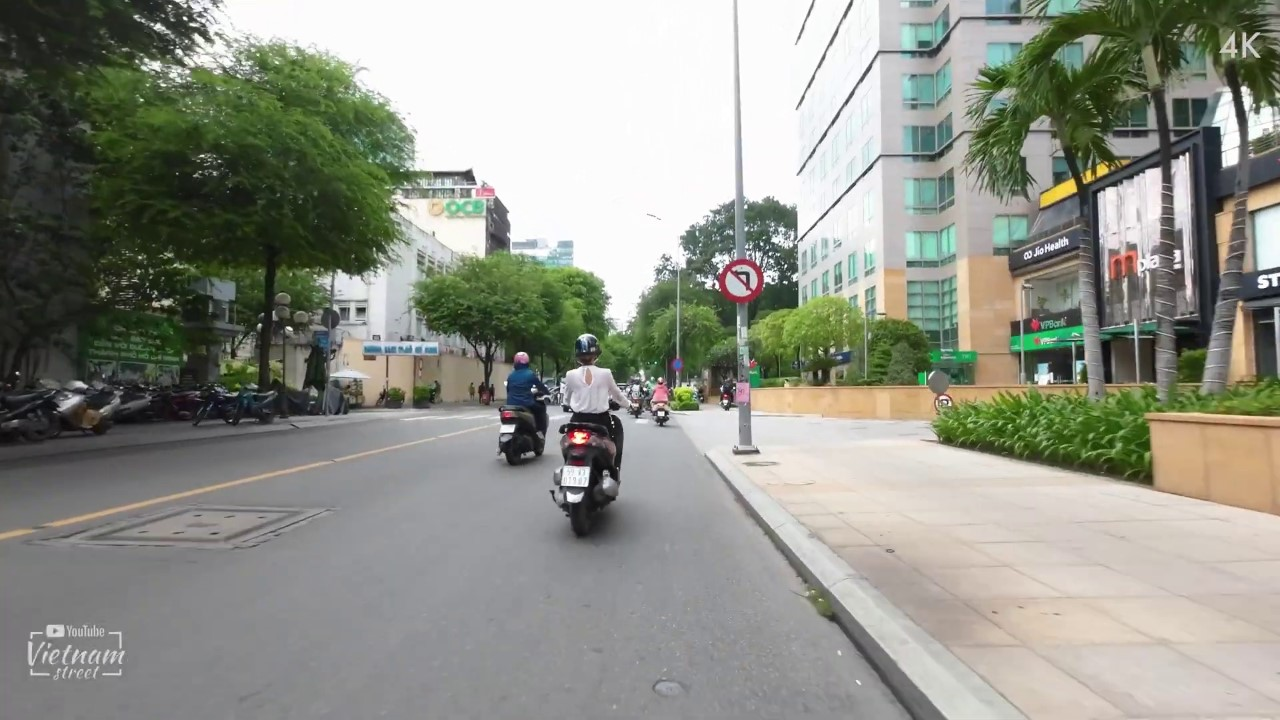cam_re_trai: (719, 258, 764, 303)
